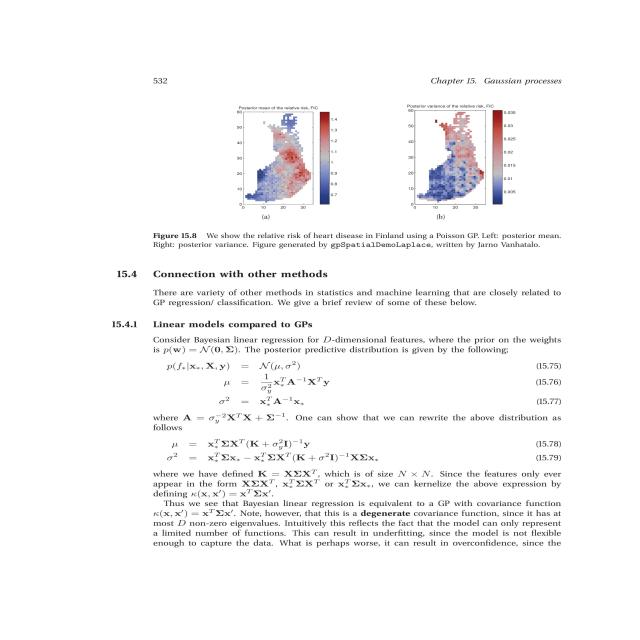diagram: (135, 95, 590, 267)
